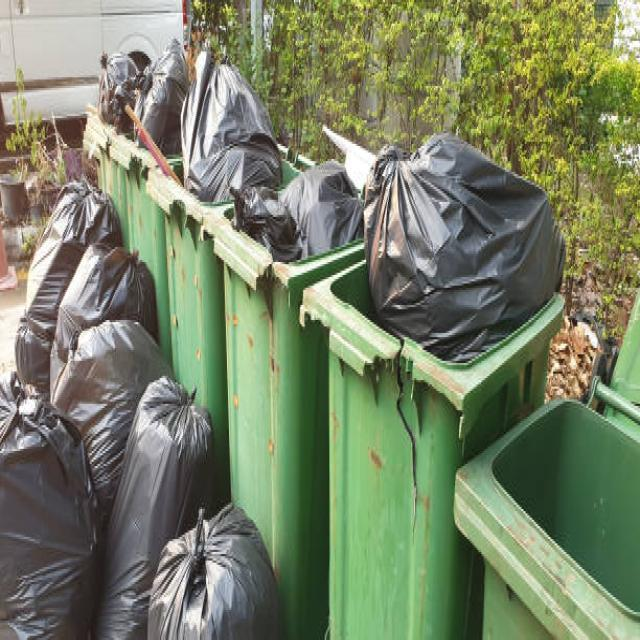garbage: (0, 43, 561, 640)
